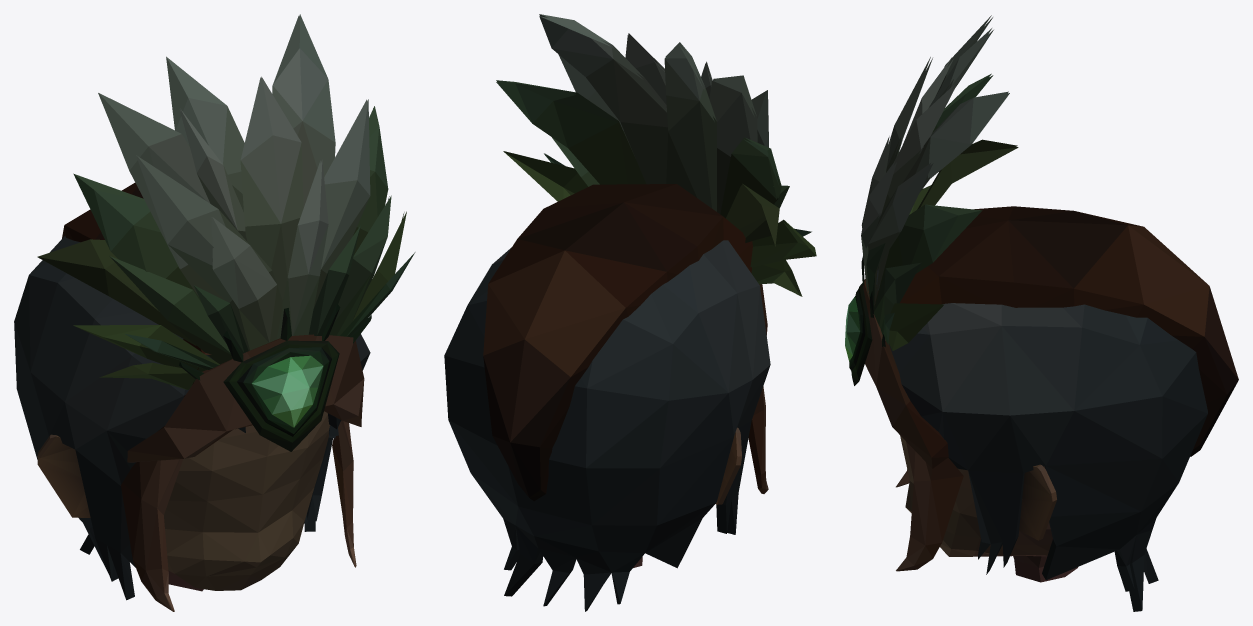
File: helm_darkskin_standard_black_headress.fbx
The picture shows the model from 3 angles, left to right: view 1: azimuth 30°, elevation 25°; view 2: azimuth 150°, elevation 25°; view 3: azimuth 270°, elevation 25°; orthographic projection. The views are drawn at different scales.
Visible parts, largest first — view 1: helm_darkskin_standard_black_headress; view 2: helm_darkskin_standard_black_headress; view 3: helm_darkskin_standard_black_headress.
Boxes of the visible parts, x1=… form: helm_darkskin_standard_black_headress: x1=14, y1=14, x2=415, y2=611; helm_darkskin_standard_black_headress: x1=444, y1=14, x2=816, y2=611; helm_darkskin_standard_black_headress: x1=845, y1=15, x2=1238, y2=611.
Bounding box in the file's own units: 1.29 × 2.09 × 1.39.
